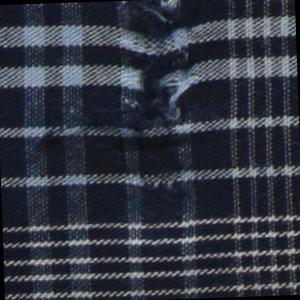Damage: (22, 1, 226, 216)
